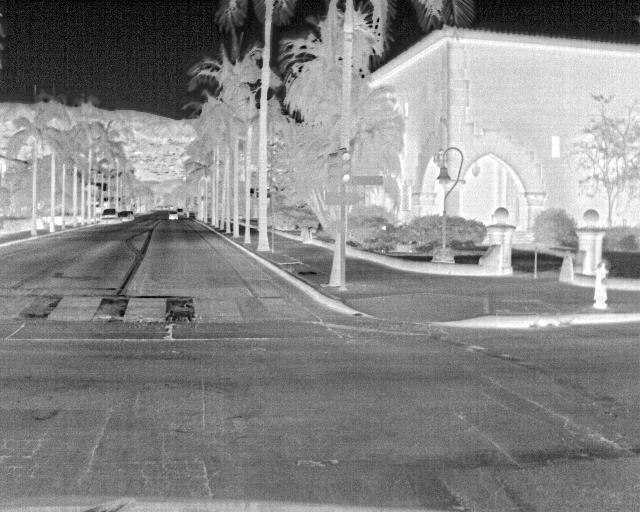car: (100, 207, 117, 224), (116, 210, 131, 222), (166, 209, 178, 222), (175, 207, 185, 219)
